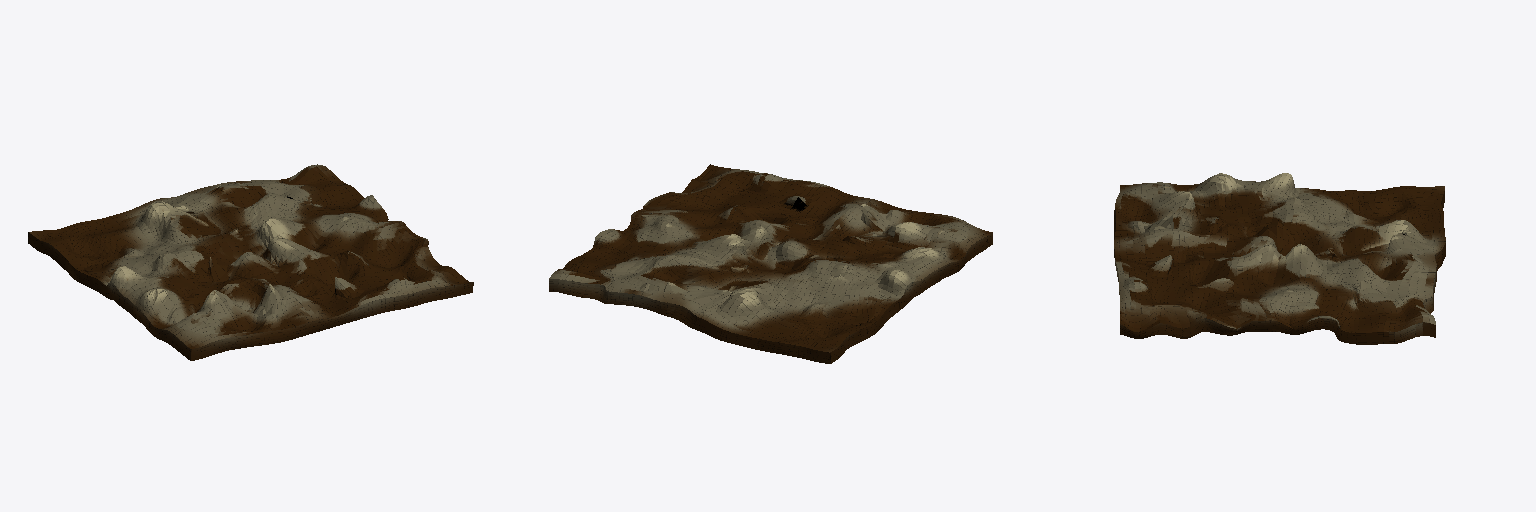
3 views of the same model, side by side, from view 1: azimuth 30°, elevation 25°; view 2: azimuth 150°, elevation 25°; view 3: azimuth 270°, elevation 25° (orthographic).
Visible parts, largest first — view 1: Ground; view 2: Ground; view 3: Ground.
Part boxes in pixels (left/top/right/bottom): Ground: left=28, top=164, right=473, bottom=360; Ground: left=549, top=164, right=992, bottom=363; Ground: left=1114, top=173, right=1445, bottom=344.
Bounding box in the file's own units: 209 × 31.56 × 204.
1 materials, 1 textured.